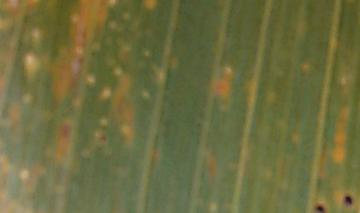tarspot: (344, 195, 354, 208), (317, 204, 325, 213)
